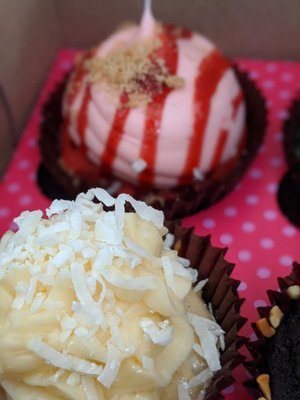sushi: (37, 1, 266, 218), (0, 188, 202, 399)
